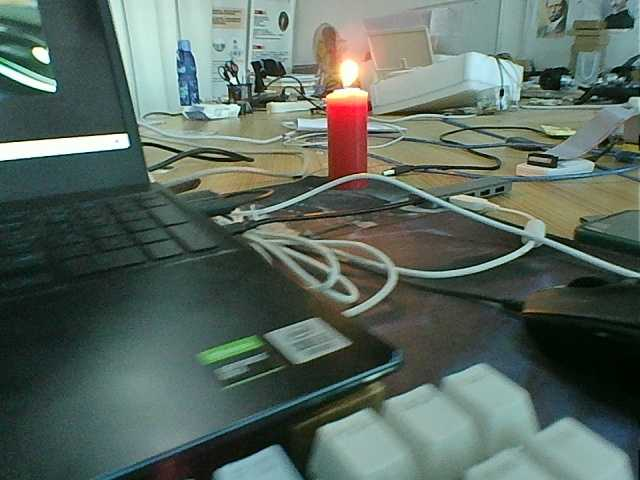candle: (319, 91, 384, 194)
fire: (330, 59, 366, 91)
